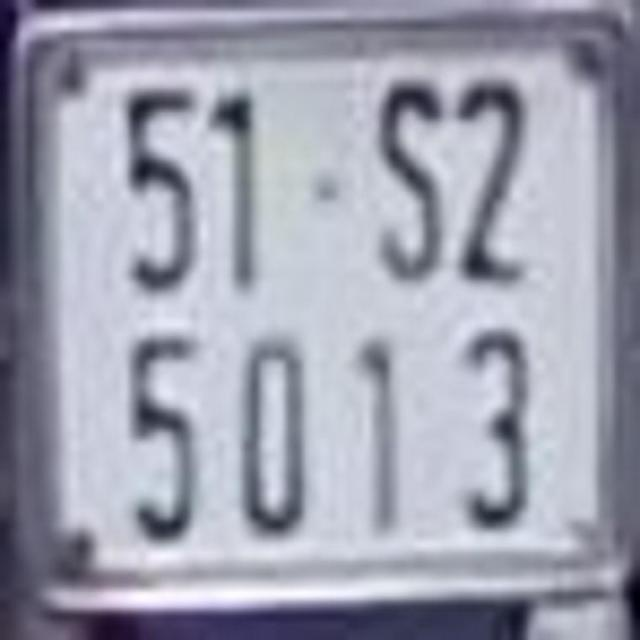0: (240, 323, 314, 543)
1: (203, 72, 273, 297), (346, 324, 414, 534)
2: (454, 64, 534, 292)
3: (456, 320, 538, 530)
5: (127, 326, 203, 540), (124, 81, 200, 290)
S: (378, 64, 449, 296)
